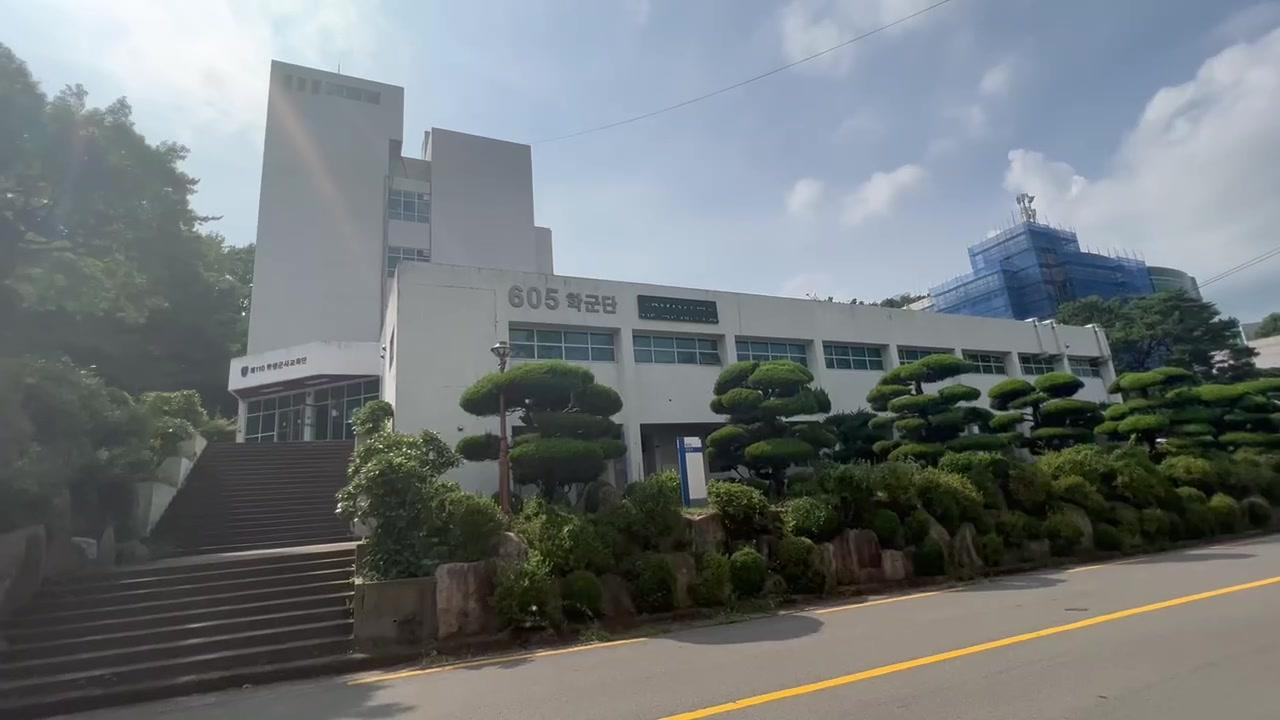building: (227, 69, 741, 499)
